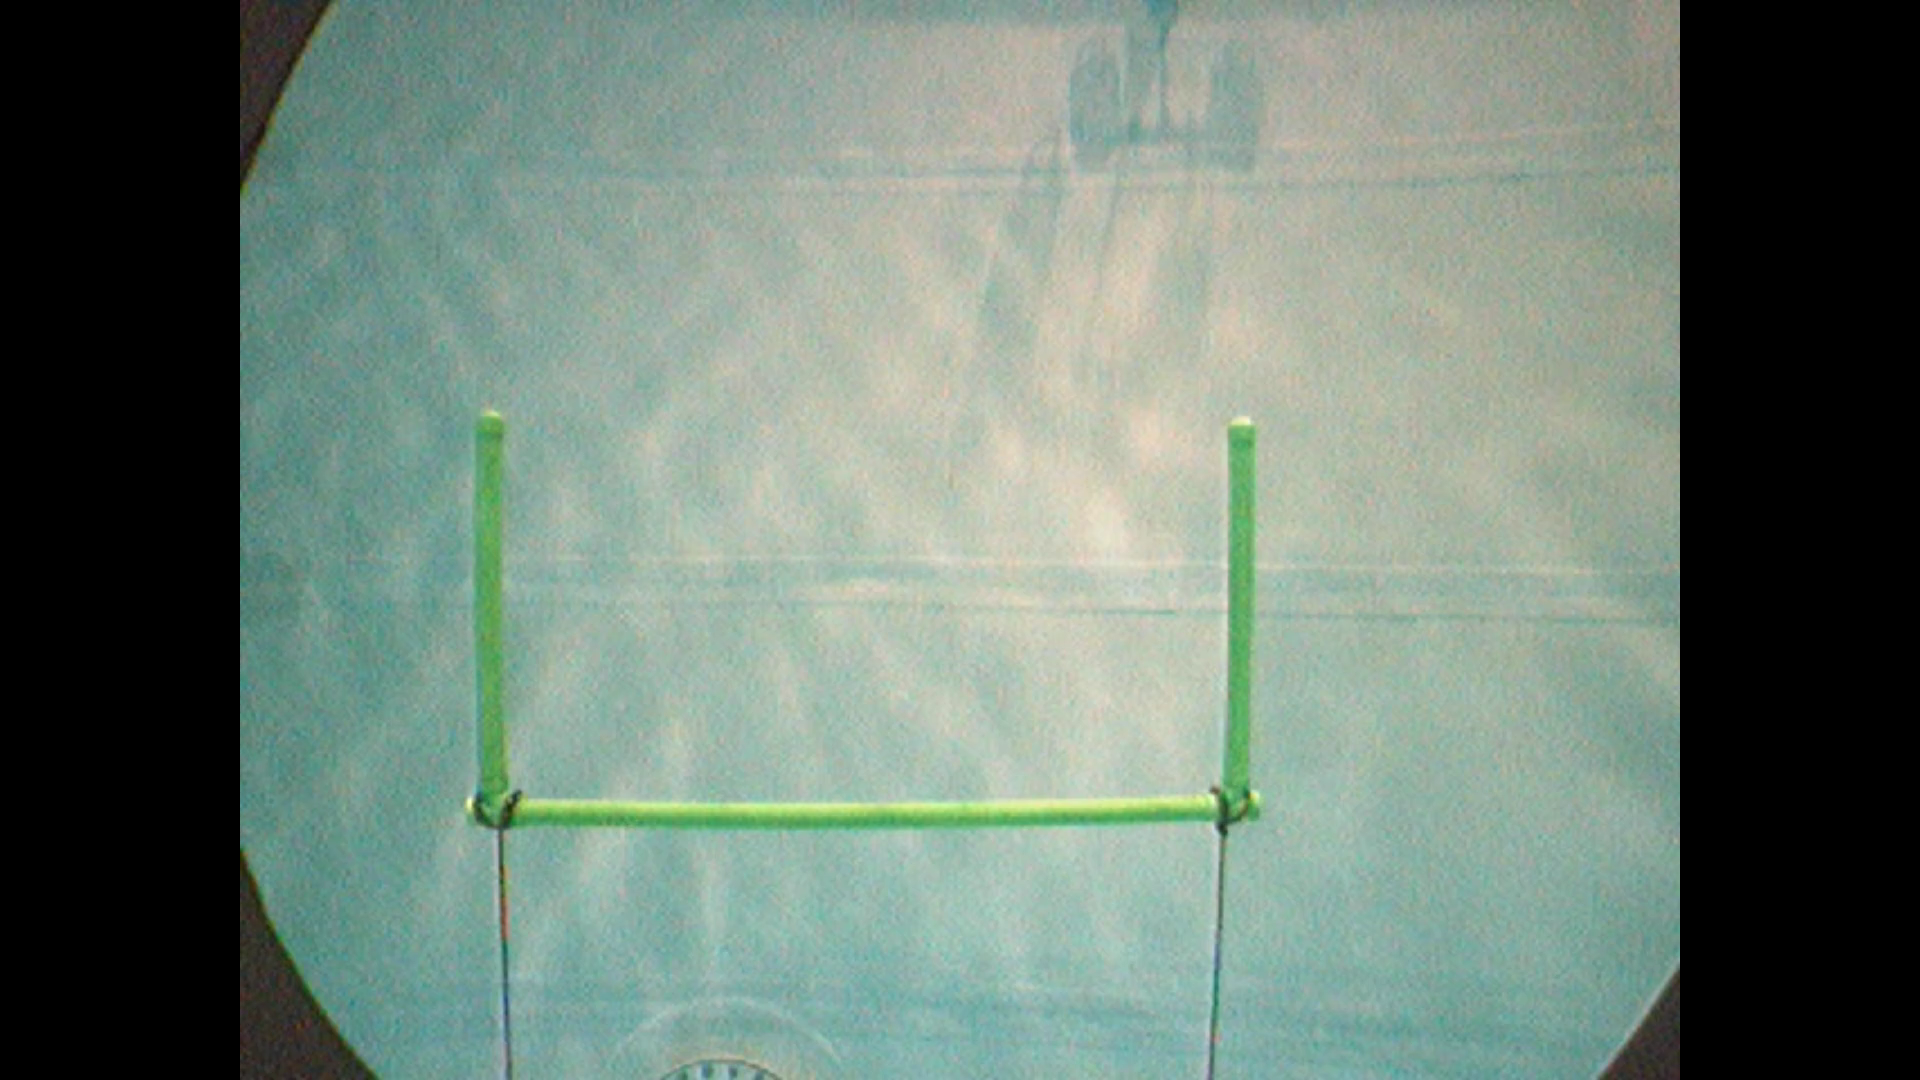gate: (440, 400, 1279, 860)
